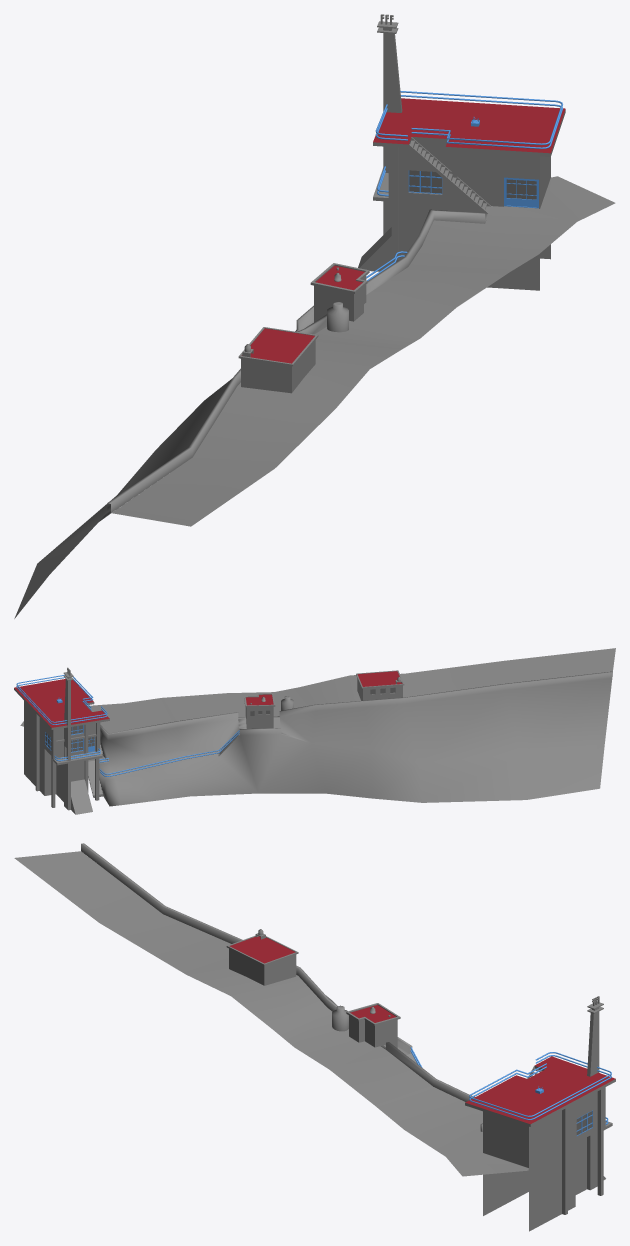
File: Msh_Sect06_Sitio.glb
3 views of the same model, one above another, from view 1: azimuth 30°, elevation 25°; view 2: azimuth 150°, elevation 25°; view 3: azimuth 270°, elevation 25° (orthographic). The views are drawn at different scales.
Visible parts, largest first — view 1: Msh_Sitio; view 2: Msh_Sitio; view 3: Msh_Sitio.
Boxes of the visible parts, x1,y1,x2,y2 form: Msh_Sitio: [14, 14, 615, 618]; Msh_Sitio: [14, 648, 615, 814]; Msh_Sitio: [14, 843, 615, 1231].
Bounding box in the file's own units: 103 × 30.86 × 87.29.
